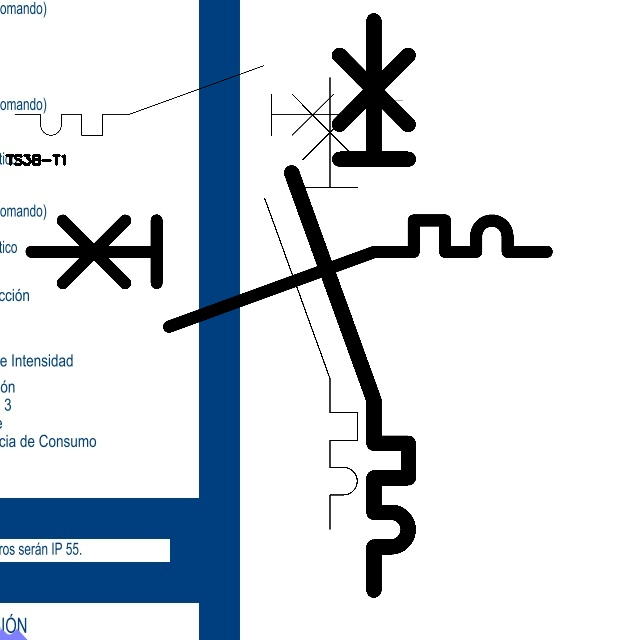interruptor_termomagnetico: (277, 6, 423, 605), (18, 207, 560, 339), (253, 66, 369, 541), (6, 57, 363, 144)
